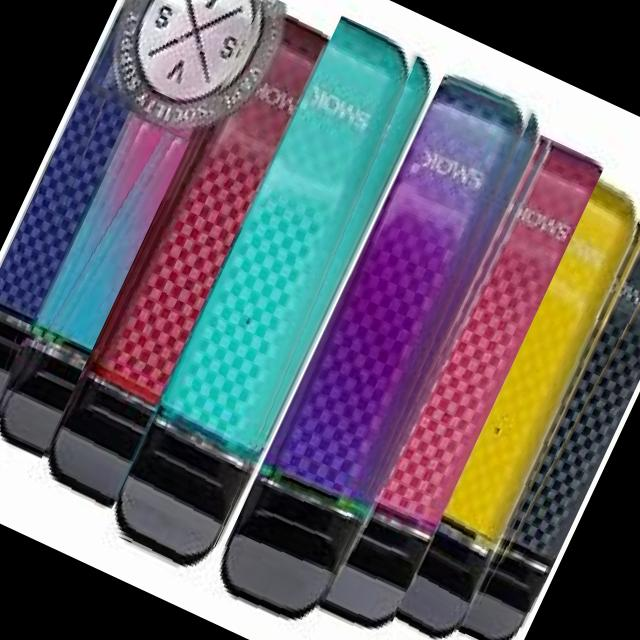Hazard: (204, 61, 552, 634), (100, 14, 442, 578), (21, 0, 332, 533), (307, 131, 605, 640), (380, 164, 640, 640), (454, 215, 640, 640), (0, 113, 189, 480), (0, 79, 135, 427)
